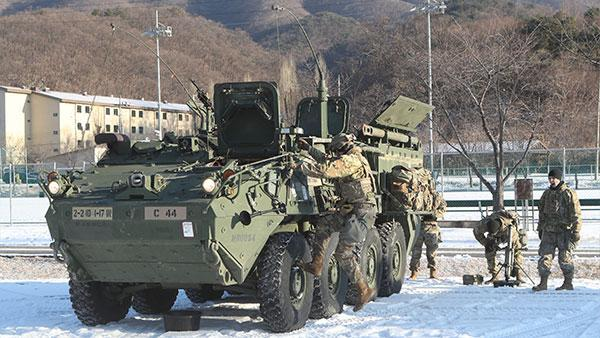MIL_IFV: (39, 79, 434, 330)
